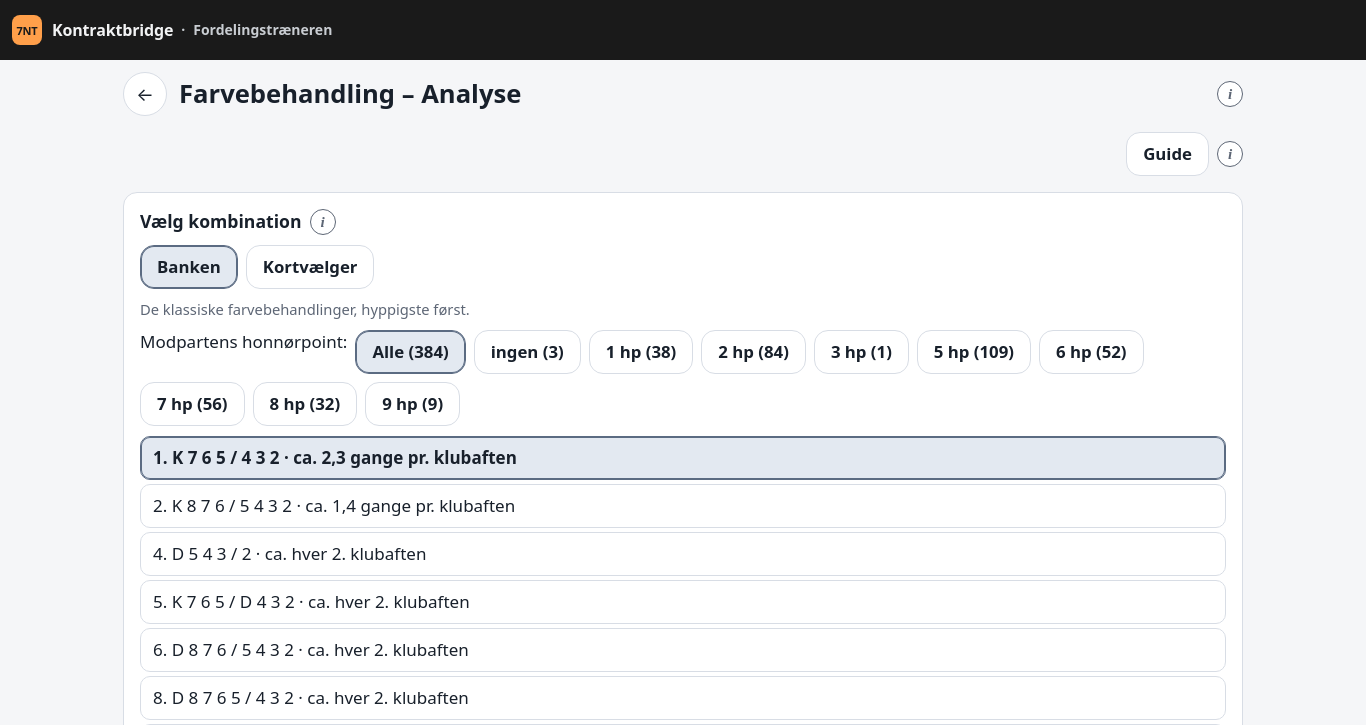
Test: Guiden i Analyse (SPEC-analyse-modul.md, trin 3) › knappen Guide står øverst i modulet og åbner guiden
The image size is (1366, 725).
Click the button named "Hjælp: Guide": (1230, 154) [1217, 141, 1243, 167]
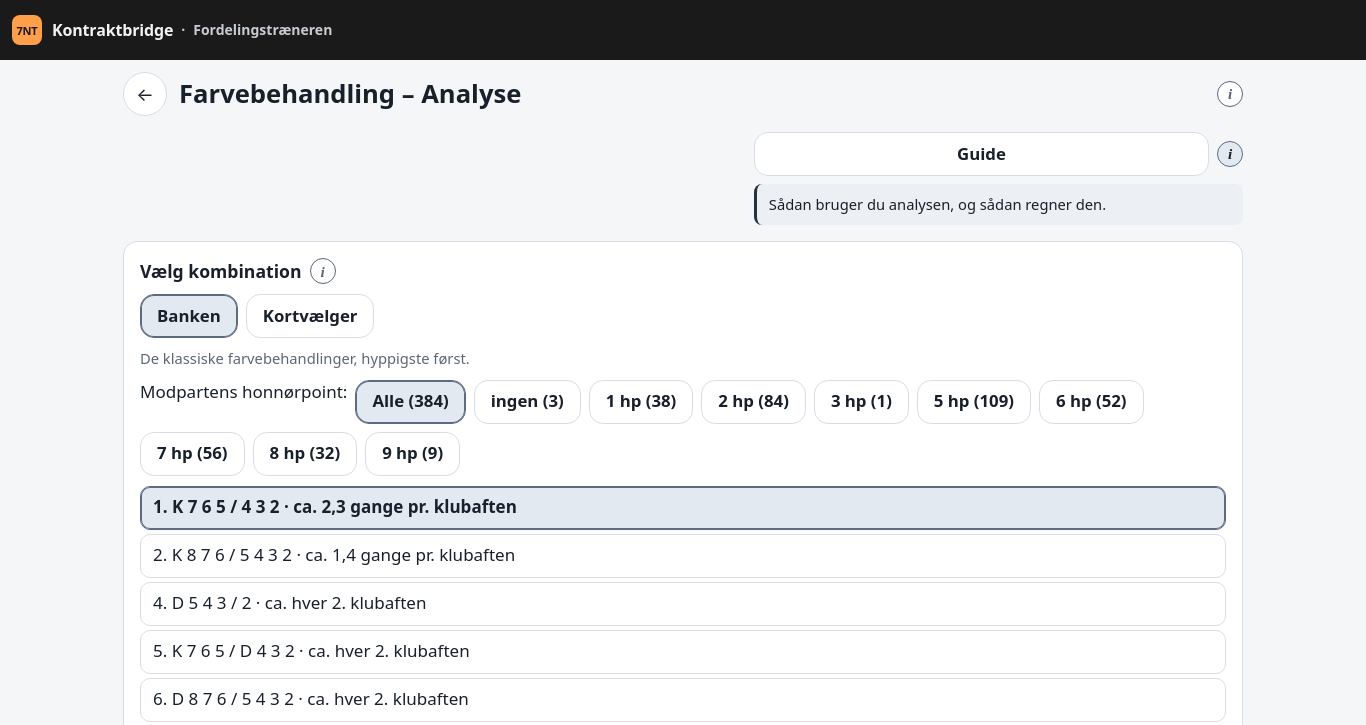
Now the text "Sådan bruger du analysen, og sådan regner den." is shown, box [754, 184, 1243, 225]
Click the button "Guide": (981, 154) [754, 132, 1209, 176]
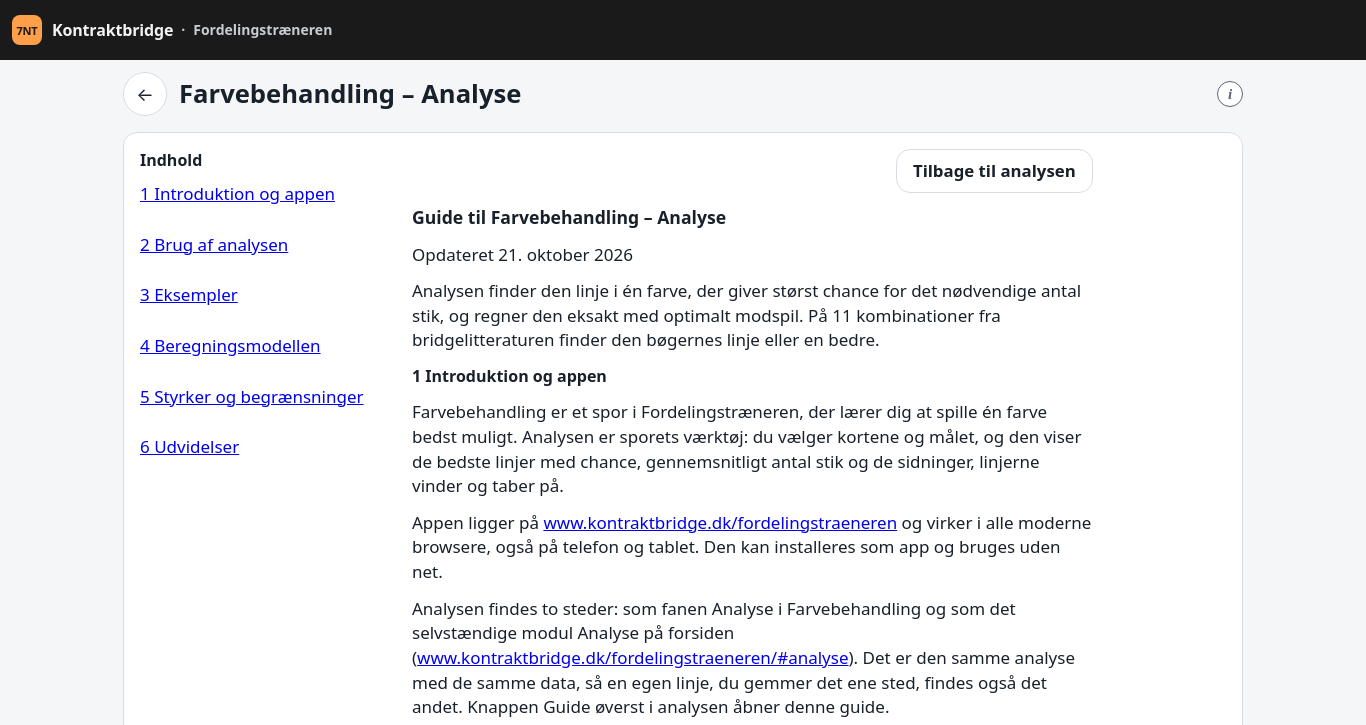
Now the heading "Guide til Farvebehandling – Analyse" is shown, box [412, 205, 726, 229]
